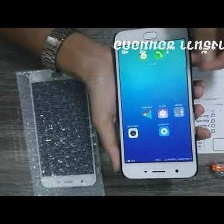phone: (111, 24, 201, 181), (25, 65, 98, 192)
